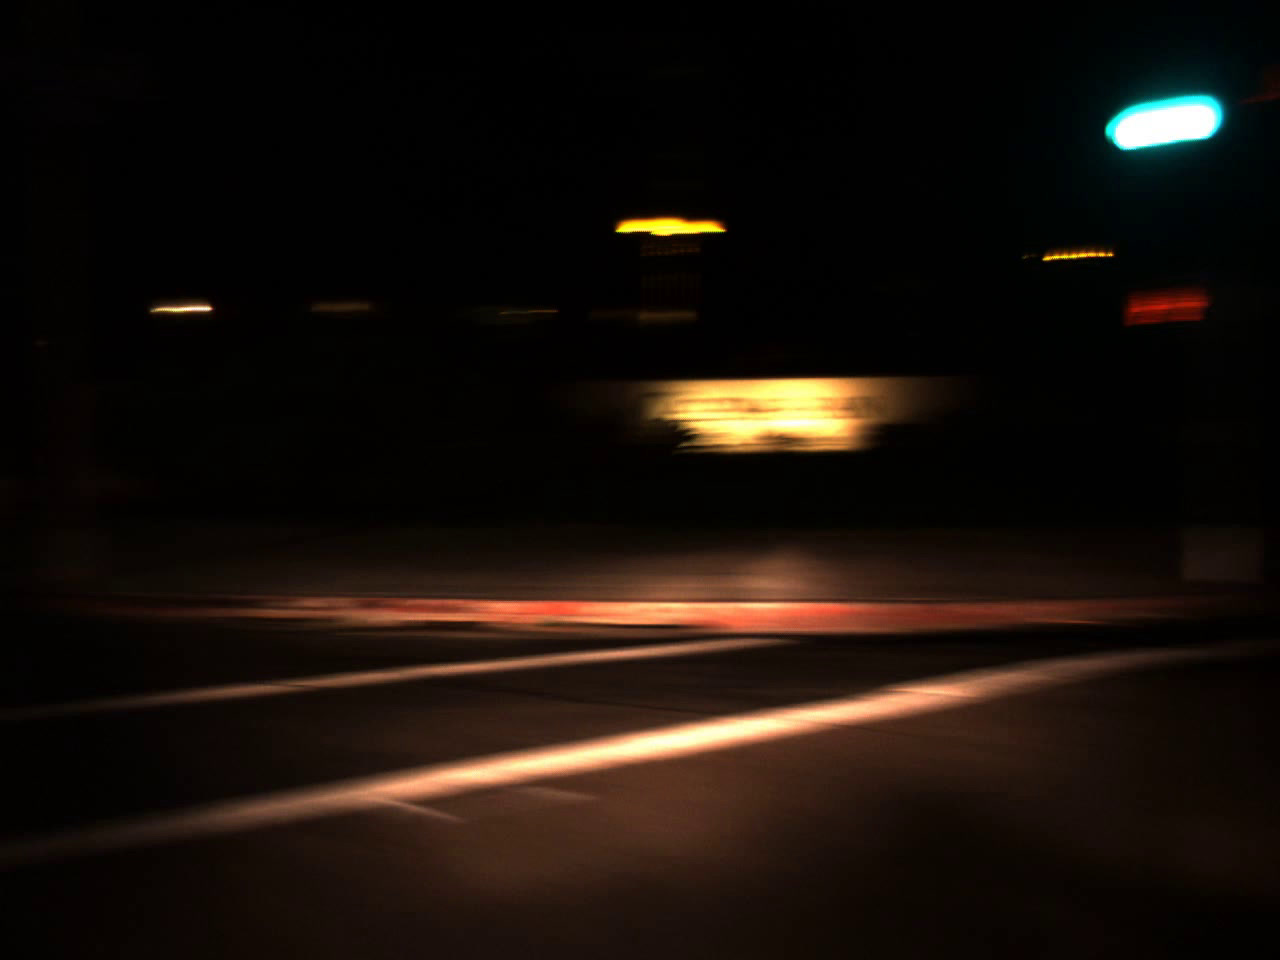go: (1085, 42, 1245, 159)
